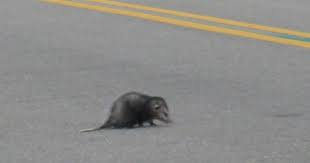opossum: (81, 89, 173, 134)
